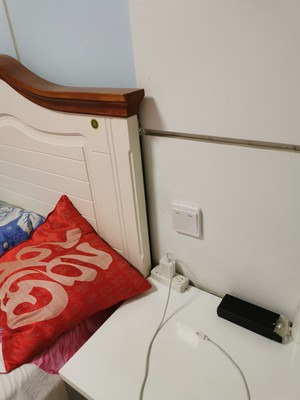switch: (185, 213, 198, 233), (173, 211, 184, 229)
